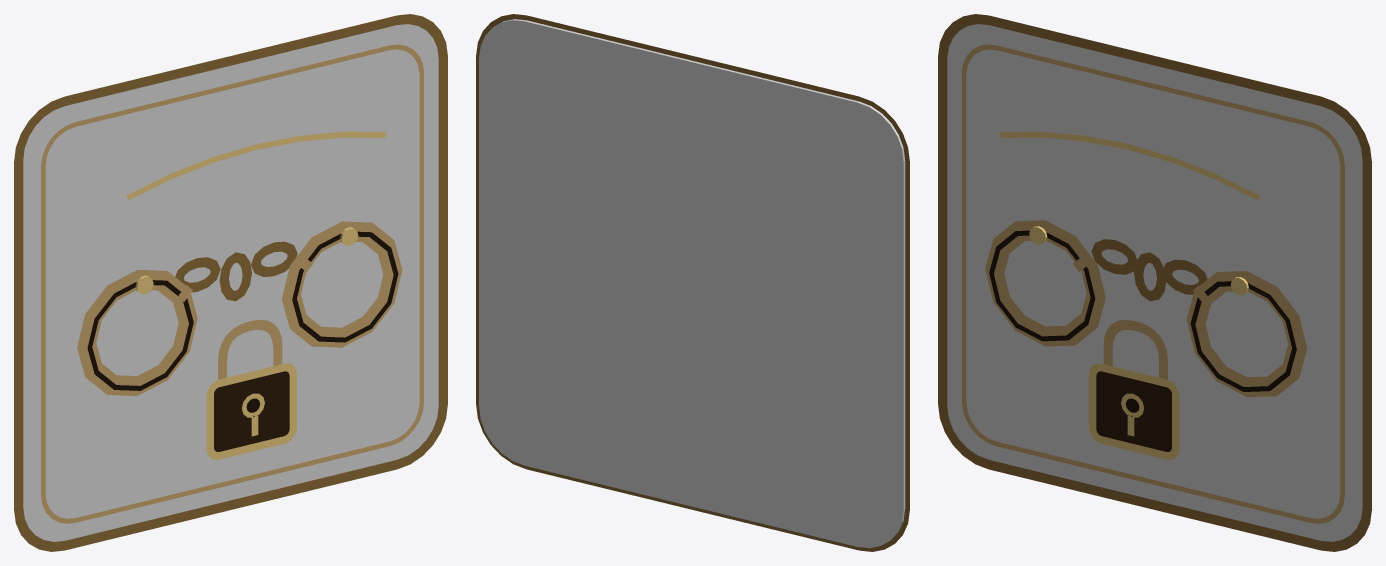
File: obj-kandaly.glb
The picture shows the model from 3 angles, left to right: view 1: azimuth 30°, elevation 25°; view 2: azimuth 150°, elevation 25°; view 3: azimuth 330°, elevation 25°; orthographic projection.
Parts seen in each view (by area): view 1: obj-kandaly; view 2: obj-kandaly; view 3: obj-kandaly.
Boxes of the visible parts, x1=… form: obj-kandaly: x1=14, y1=14, x2=447, y2=551; obj-kandaly: x1=476, y1=14, x2=909, y2=551; obj-kandaly: x1=938, y1=14, x2=1371, y2=551.
Size of the model in its own units: 0.3917 by 0.3917 by 0.0426.
